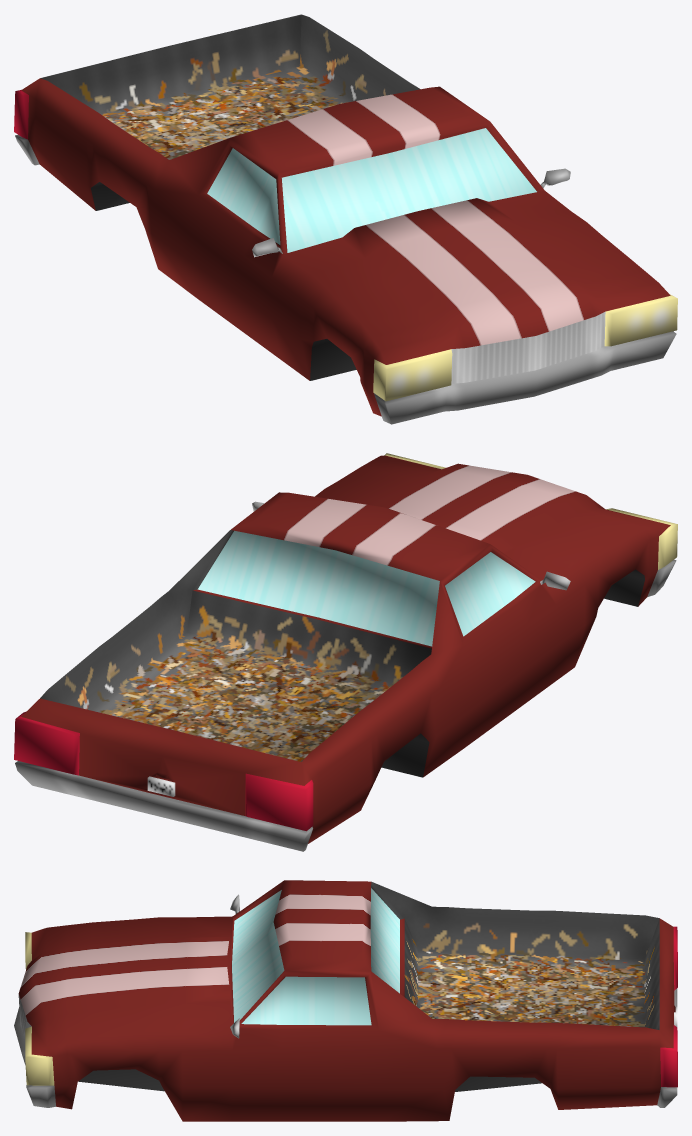
File: el camino new.fbx
The picture shows the model from 3 angles, top to bottom: view 1: azimuth 30°, elevation 25°; view 2: azimuth 150°, elevation 25°; view 3: azimuth 270°, elevation 25°; orthographic projection. The views are drawn at different scales.
Visible parts, largest first — view 1: El Camino; view 2: El Camino; view 3: El Camino.
Part boxes in pixels (x1=…): El Camino: x1=14, y1=14, x2=677, y2=424; El Camino: x1=14, y1=453, x2=677, y2=851; El Camino: x1=14, y1=880, x2=677, y2=1121.
Bounding box in the file's own units: 3.18 × 1.62 × 6.53.
